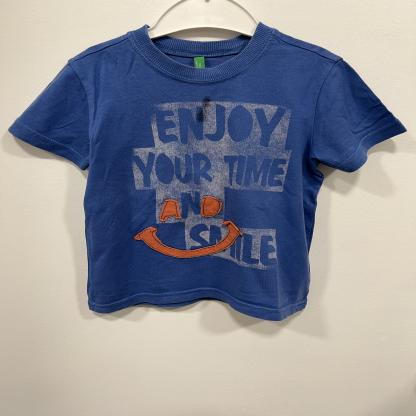stain: (194, 94, 216, 125)
